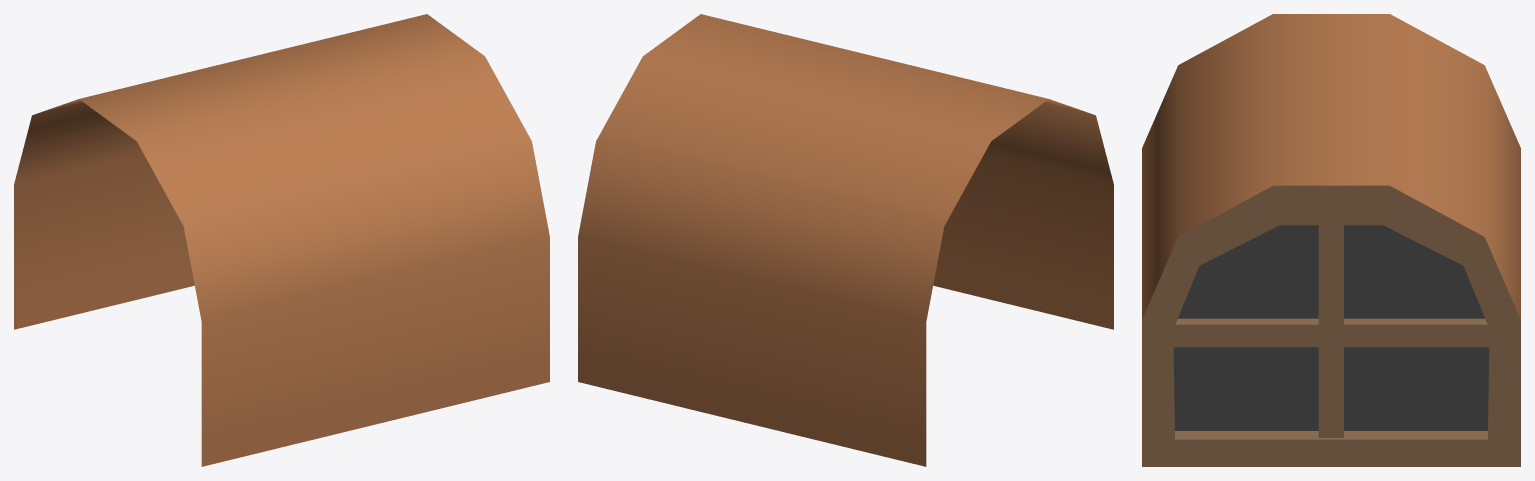
File: JC_P_Roof_add.fbx
The picture shows the model from 3 angles, left to right: view 1: azimuth 30°, elevation 25°; view 2: azimuth 150°, elevation 25°; view 3: azimuth 270°, elevation 25°; orthographic projection.
Visible parts, largest first — view 1: JC_P_Roof_add; view 2: JC_P_Roof_add; view 3: JC_P_Roof_add.
Part boxes in pixels (x1=…): JC_P_Roof_add: x1=14, y1=14, x2=549, y2=466; JC_P_Roof_add: x1=578, y1=14, x2=1113, y2=466; JC_P_Roof_add: x1=1142, y1=14, x2=1520, y2=466.
Bounding box in the file's own units: 0.8457 × 0.6454 × 0.7881.
